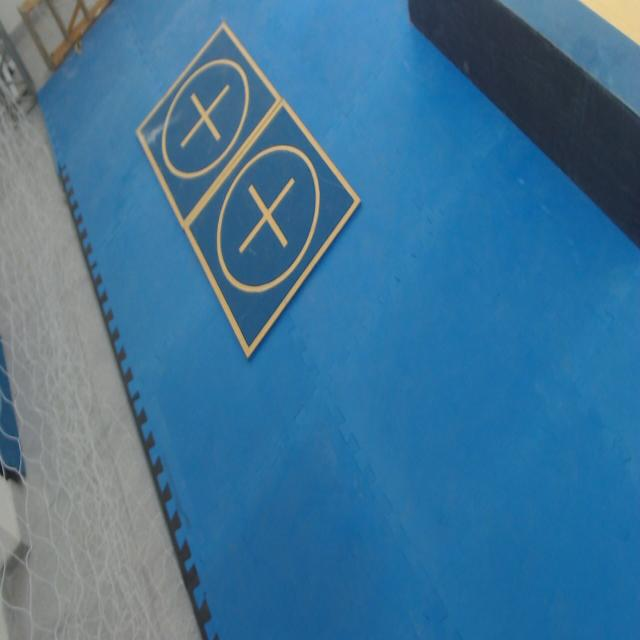base_inicio: (574, 0, 640, 50)
base_pouso: (183, 98, 362, 361), (133, 21, 283, 232)
